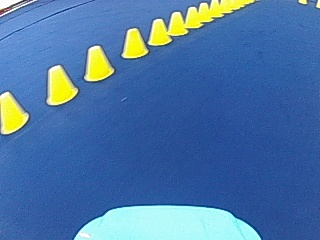cone: (45, 63, 78, 104), (0, 90, 29, 133), (83, 44, 114, 81), (120, 26, 148, 58), (147, 17, 170, 45), (166, 11, 186, 35), (183, 5, 200, 27), (197, 2, 210, 21), (209, 0, 221, 16)
